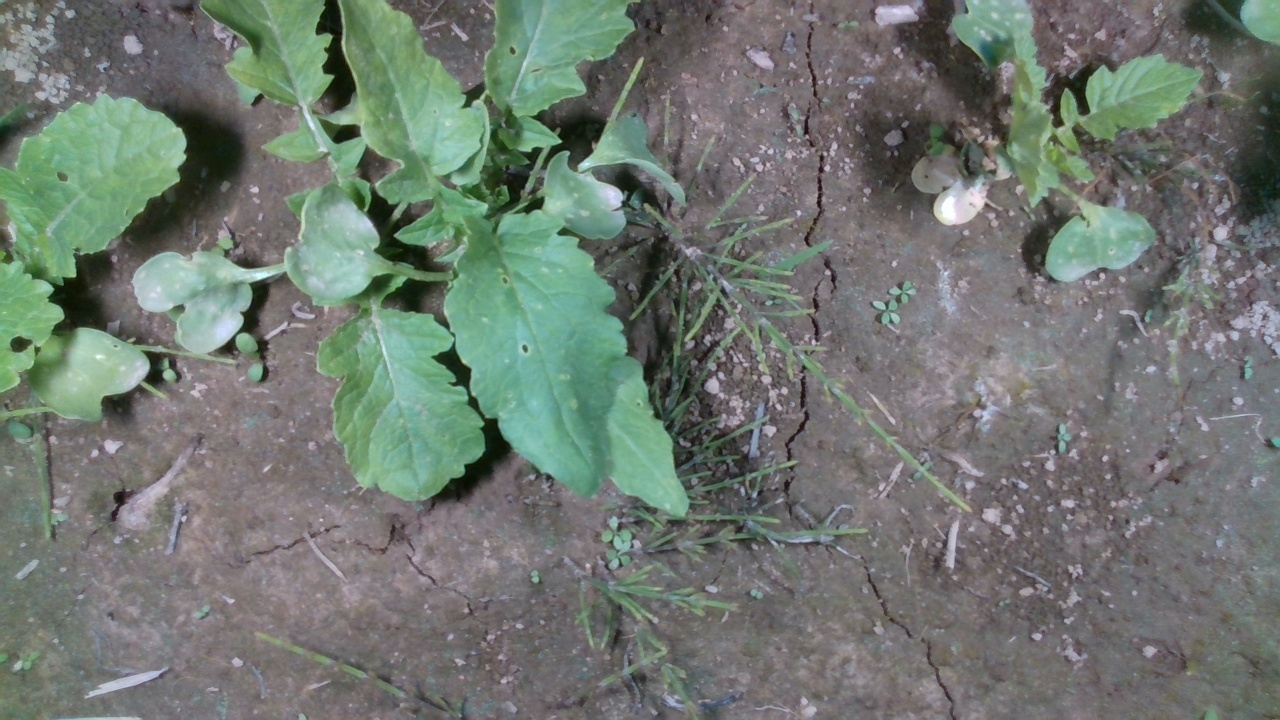weed: (13, 647, 43, 671), (1055, 421, 1073, 457), (191, 602, 211, 622), (832, 19, 863, 31), (528, 568, 541, 586)
